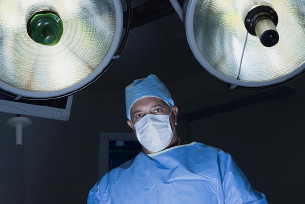face_mask: (132, 99, 173, 152)
